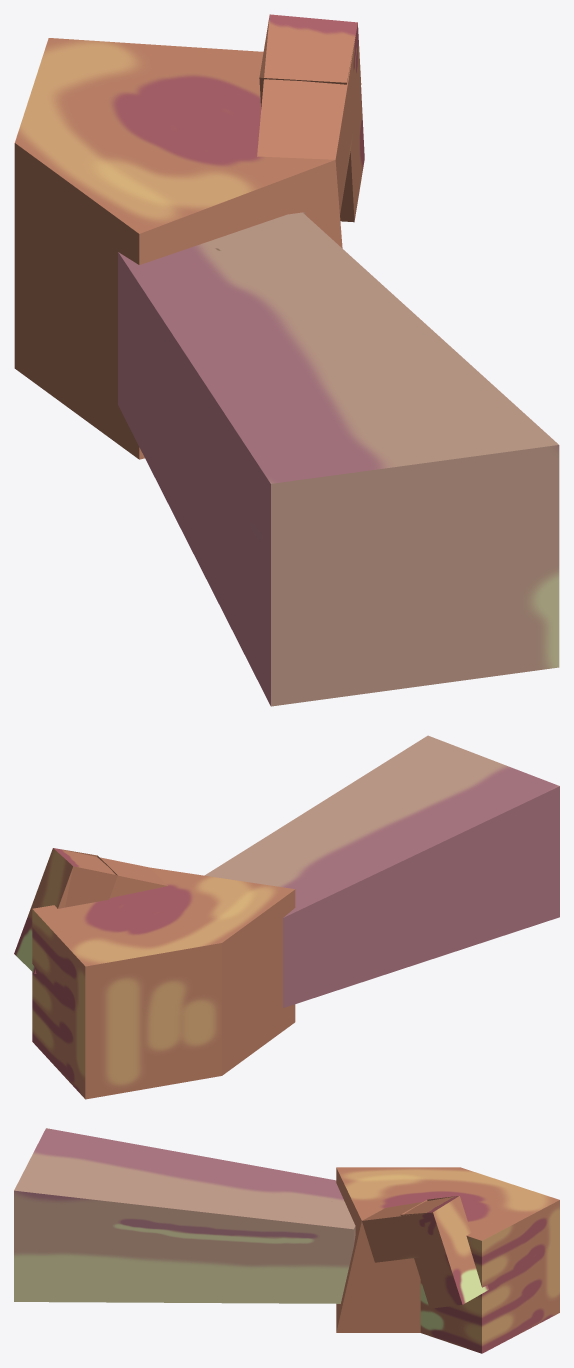
File: hand_left.glb
The picture shows the model from 3 angles, top to bottom: view 1: azimuth 30°, elevation 25°; view 2: azimuth 150°, elevation 25°; view 3: azimuth 270°, elevation 25°; orthographic projection. The views are drawn at different scales.
Visible parts, largest first — view 1: Cube.001; view 2: Cube.001; view 3: Cube.001.
Boxes of the visible parts, x1=… form: Cube.001: x1=14, y1=14, x2=559, y2=706; Cube.001: x1=14, y1=735, x2=559, y2=1099; Cube.001: x1=14, y1=1128, x2=559, y2=1353.
Size of the model in its own units: 4.73 by 2.6 by 8.77.
2 materials, 2 textured.
